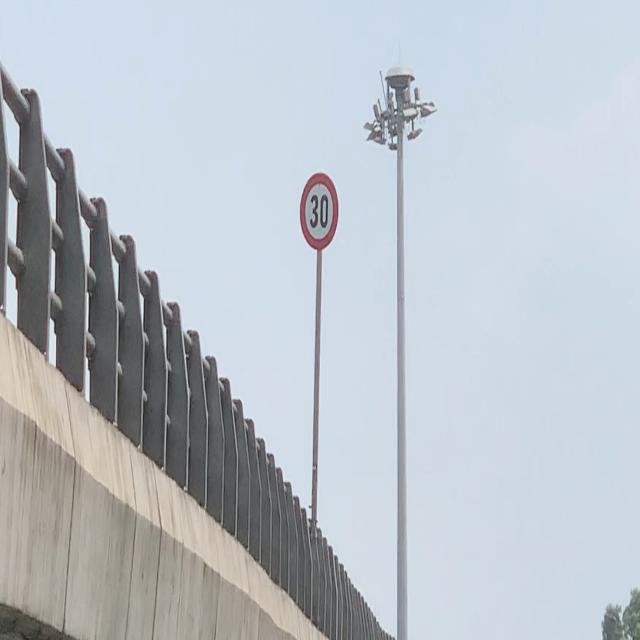Toc do toi da: (299, 172, 339, 250)
